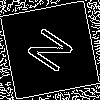N: (25, 25, 83, 81)
